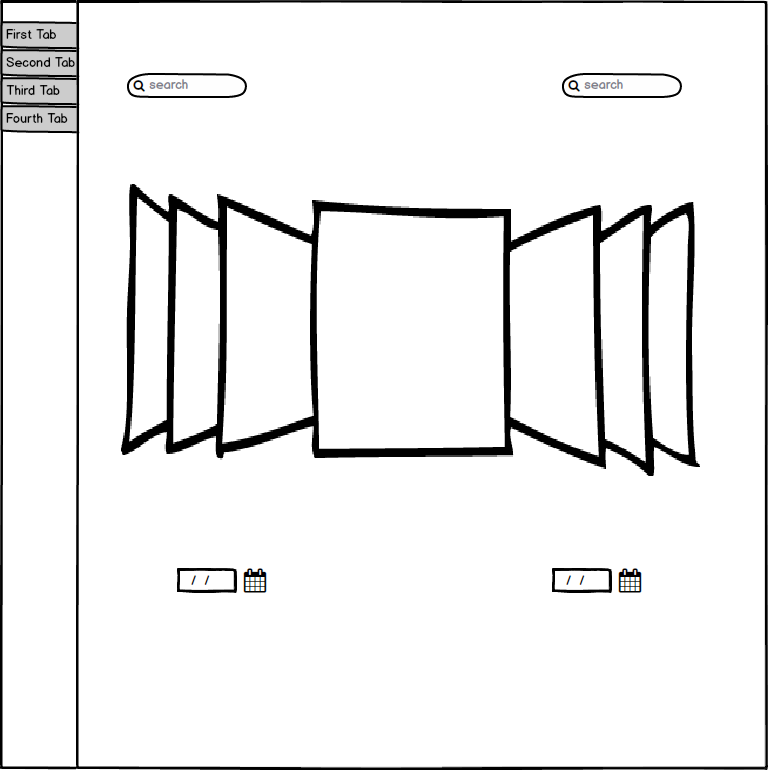date_picker: (539, 561, 650, 601), (169, 562, 273, 604)
search: (553, 68, 686, 101), (125, 71, 252, 104)
sidebar: (1, 17, 82, 137)
slideshow: (106, 177, 707, 488)
